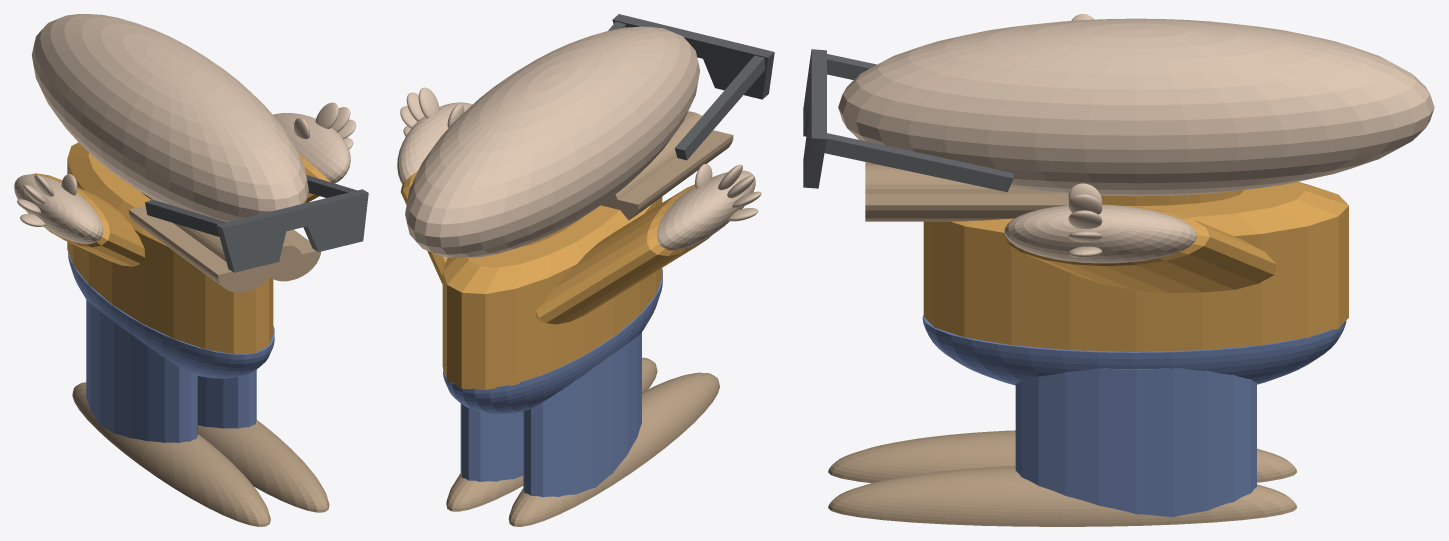
Rendered from asset.glb.
3 renders of one model, left to right at view 1: azimuth 30°, elevation 25°; view 2: azimuth 150°, elevation 25°; view 3: azimuth 270°, elevation 25°, orthographic. The views are drawn at different scales.
Parts seen in each view (by area): view 1: Mesh_Mesh_head_geo.001_lambert2SG.001; view 2: Mesh_Mesh_head_geo.001_lambert2SG.001; view 3: Mesh_Mesh_head_geo.001_lambert2SG.001.
Boxes of the visible parts, x1,y1,x2,y2 form: Mesh_Mesh_head_geo.001_lambert2SG.001: [14, 14, 368, 526]; Mesh_Mesh_head_geo.001_lambert2SG.001: [397, 14, 774, 526]; Mesh_Mesh_head_geo.001_lambert2SG.001: [803, 14, 1434, 526].
Bounding box in the file's own units: 39 × 41 × 51.
